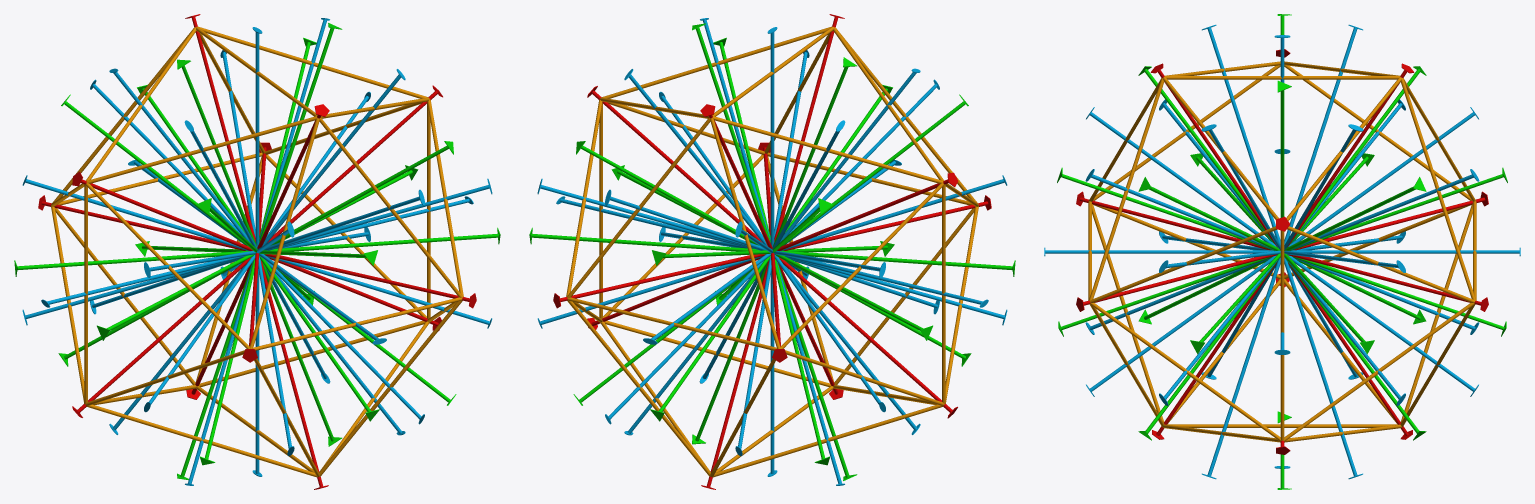
The model's file is 2CAS_axis.glb.
The picture shows the model from 3 angles, left to right: view 1: azimuth 30°, elevation 25°; view 2: azimuth 150°, elevation 25°; view 3: azimuth 270°, elevation 25°; orthographic projection. The views are drawn at different scales.
Bounding box in the file's own units: 340 × 340 × 340.
